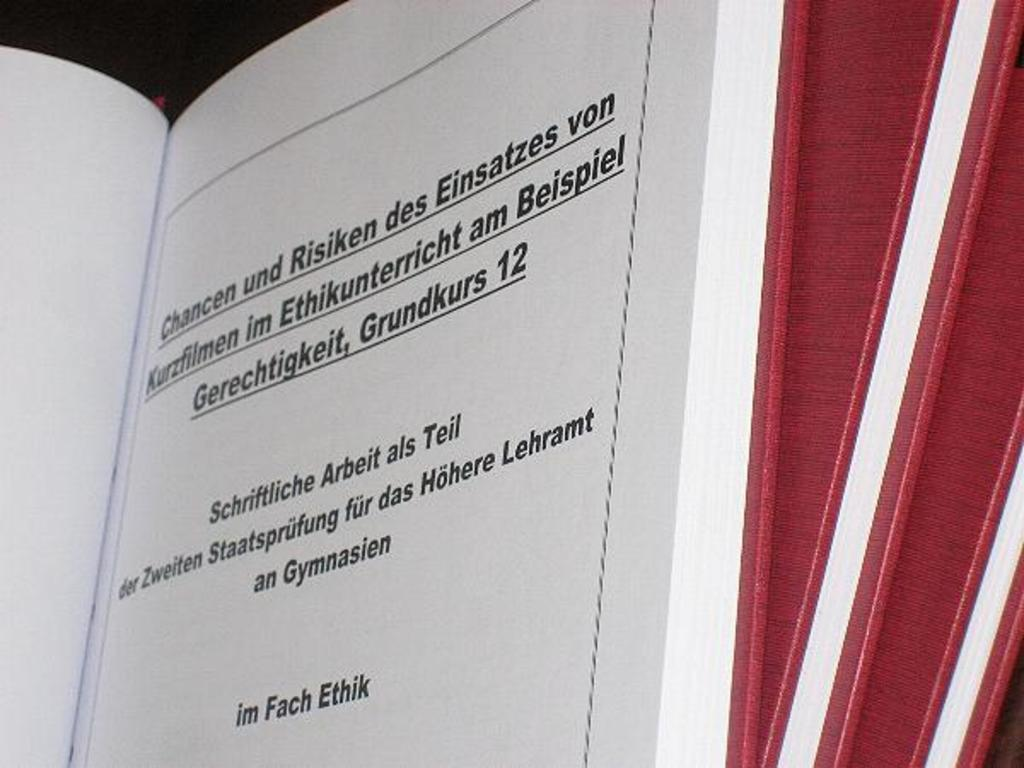Book: (48, 0, 973, 761), (777, 0, 1022, 766), (843, 65, 1022, 766)
